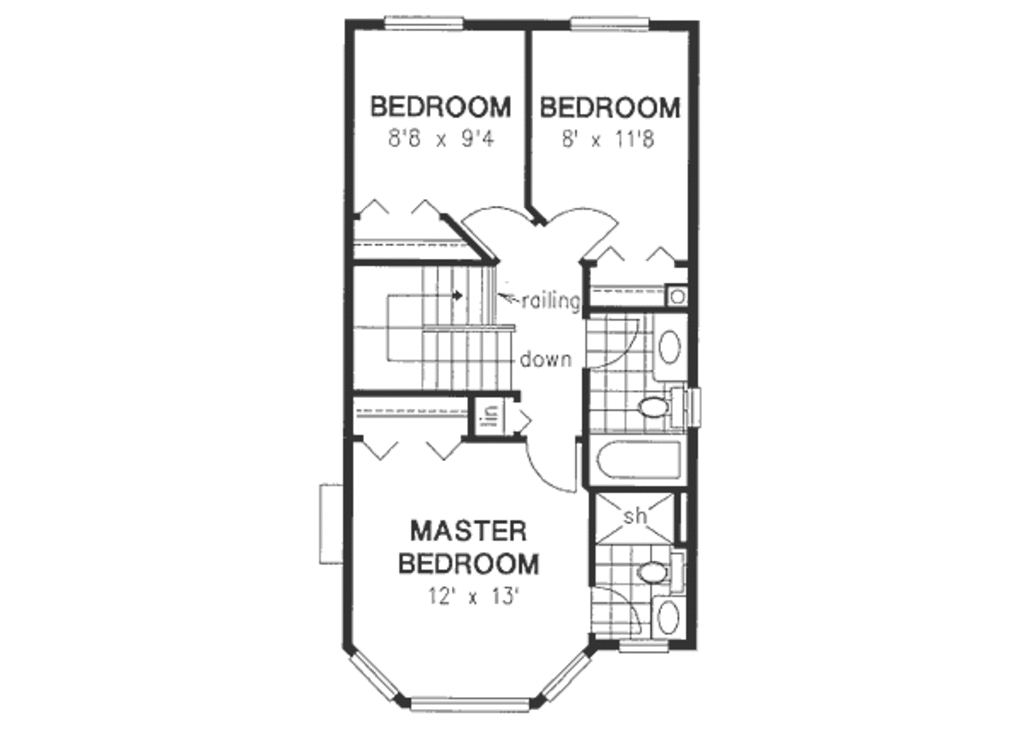door: (543, 203, 623, 263), (459, 201, 536, 255), (516, 436, 581, 497), (585, 316, 642, 372)
large_sink: (631, 552, 689, 597), (636, 386, 690, 431)
small_sink: (649, 309, 689, 384), (648, 592, 689, 639)
stairs: (352, 259, 522, 395)
tub: (589, 431, 695, 489)
window: (347, 651, 399, 706), (543, 651, 592, 707), (407, 692, 537, 713), (567, 12, 651, 34), (374, 13, 466, 33), (616, 638, 671, 655)
